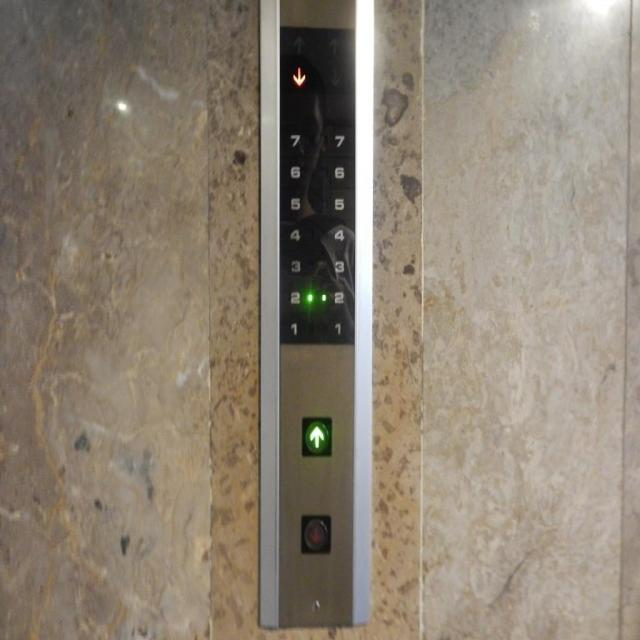down: (298, 511, 334, 557)
led: (276, 20, 357, 348)
up: (298, 412, 335, 461)
